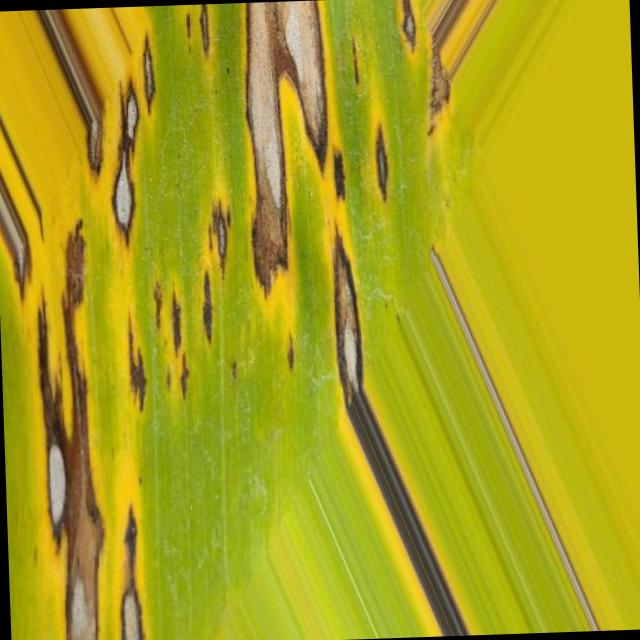Banana_Yellow_Sigatoka: (0, 204, 216, 640), (227, 1, 493, 292), (0, 15, 174, 187)
